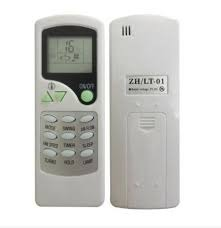remote control: (113, 20, 189, 214), (34, 18, 107, 209)
